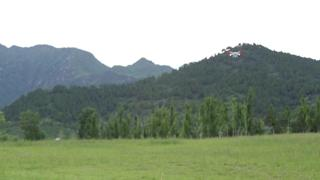UAV: (228, 50, 243, 58)
